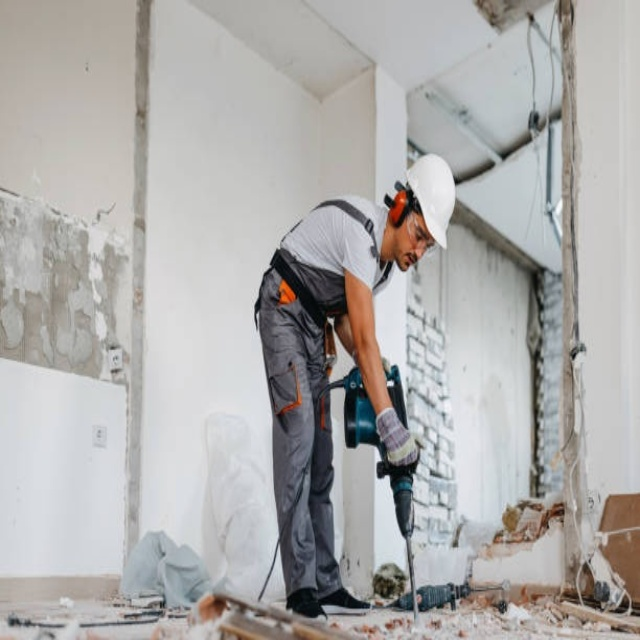Gafas: (406, 207, 438, 253)
Guantes: (376, 406, 421, 469)
Sin_mascara: (396, 242, 418, 276)
